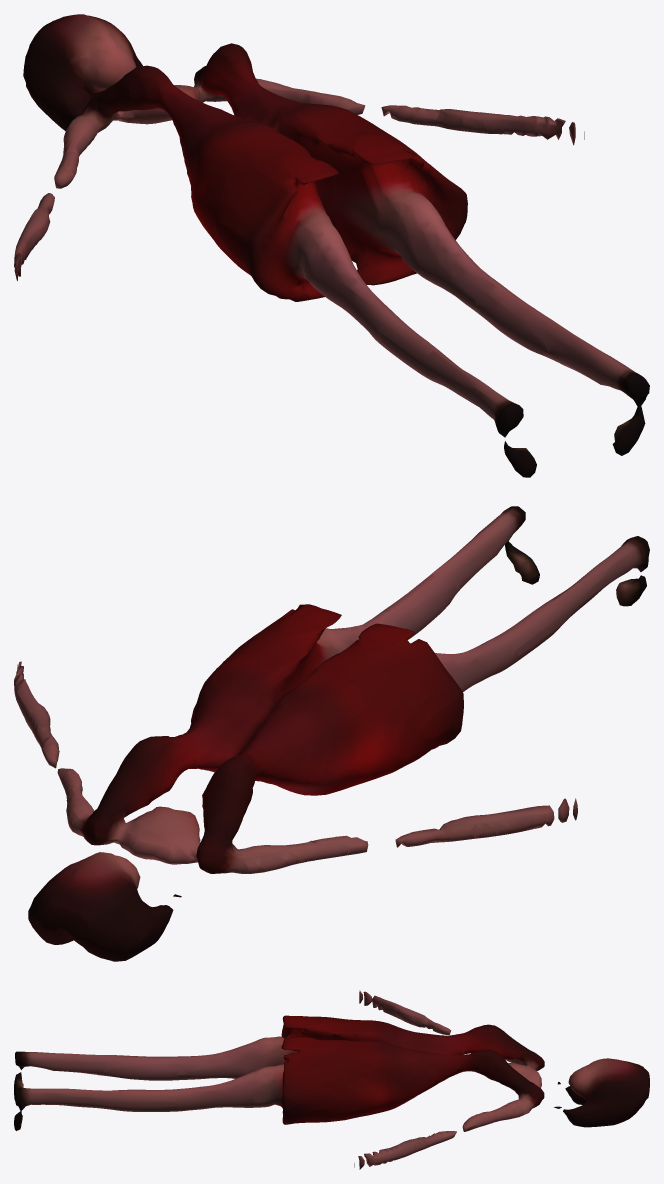
The model's file is Red_Skirt.FBX.
The picture shows the model from 3 angles, top to bottom: view 1: azimuth 30°, elevation 25°; view 2: azimuth 150°, elevation 25°; view 3: azimuth 270°, elevation 25°; orthographic projection. The views are drawn at different scales.
Visible parts, largest first — view 1: plyFile; view 2: plyFile; view 3: plyFile.
Part boxes in pixels (x1,y1,x2,y2): plyFile: (14,14,649,477); plyFile: (14,506,649,961); plyFile: (14,990,649,1169).
Size of the model in its own units: 125 by 29.24 by 198.
